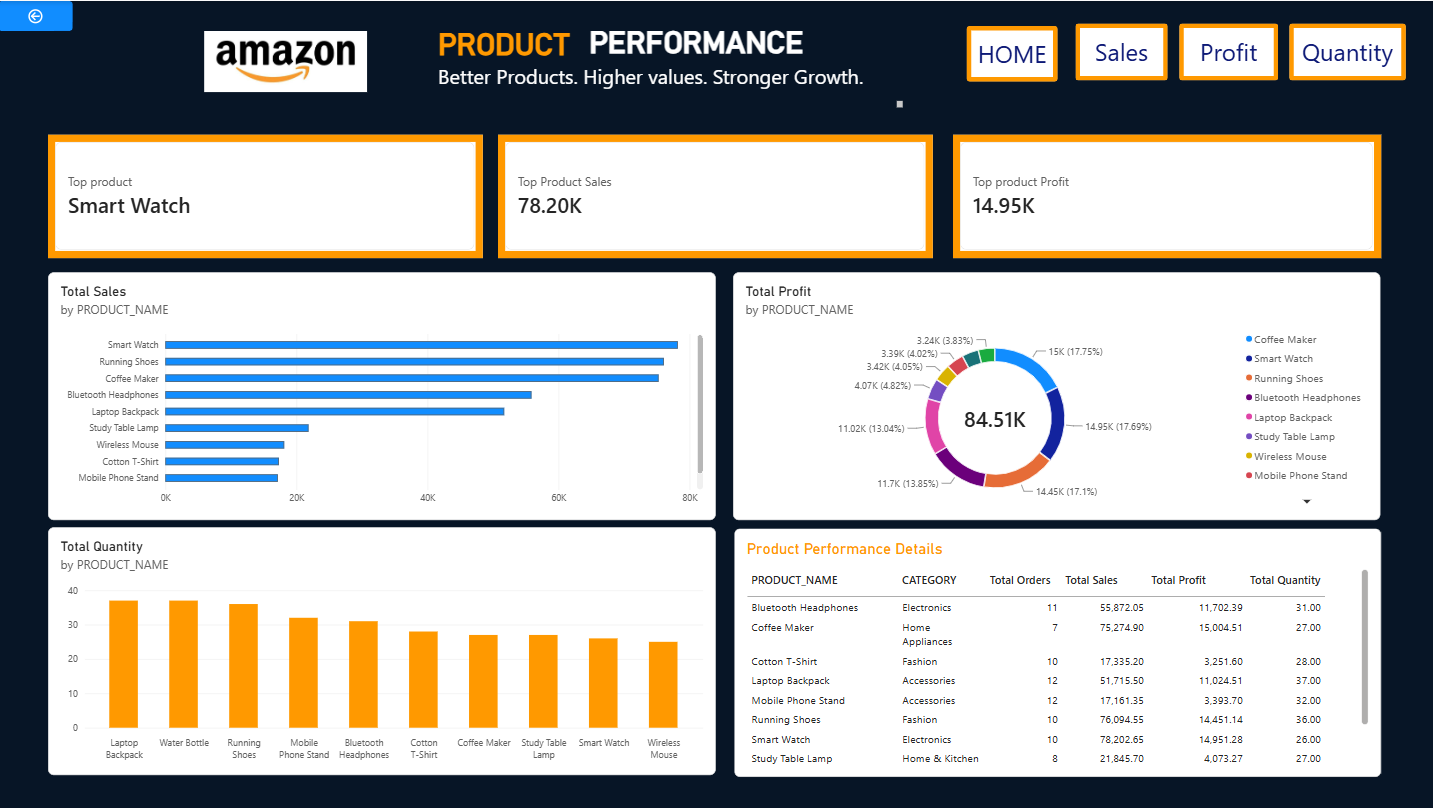

What the dashboard file says about the page in this screenshot:
{"tool":"powerbi","page":{"name":"Product_performance","canvas":[1920,1080],"ordinal":1},"visuals":[{"type":"textbox","title":"PRODUCT ","box":[588.1,32.6,620.7,108.6],"z":0},{"type":"textbox","title":"PERFORMANCE","box":[789.5,31.7,418.9,121],"z":1000},{"type":"cardVisual","fields":{"Data":["FACT_TABLE.Top product"]},"box":[67,179.2,580.9,164.7],"z":2000},{"type":"cardVisual","fields":{"Data":["FACT_TABLE.Top Product Sales"]},"box":[667.8,179.2,580.9,164.7],"z":3000},{"type":"cardVisual","fields":{"Data":["FACT_TABLE.Top product Profit"]},"box":[1275.8,179.2,571.9,164.7],"z":4000},{"type":"clusteredBarChart","fields":{"Y":["FACT_TABLE.Total Sales"],"Category":["PRODUCT.PRODUCT_NAME"]},"box":[67,361.9,892.2,331.2],"z":5000},{"type":"donutChart","fields":{"Y":["FACT_TABLE.Total Profit"],"Category":["PRODUCT.PRODUCT_NAME"]},"box":[982.6,361.9,865,331.2],"z":6000},{"type":"columnChart","fields":{"Category":["PRODUCT.PRODUCT_NAME"],"Y":["FACT_TABLE.Total Quantity"]},"box":[67,703,892,331],"z":7000},{"type":"actionButton","box":[1438.7,30.8,123.1,76],"z":8000},{"type":"actionButton","box":[1578,30.8,132.1,76],"z":9000},{"type":"actionButton","box":[1724.6,30.8,155.6,76],"z":10000},{"type":"tableEx","title":"Product Performance Details","fields":{"Values":["PRODUCT.PRODUCT_NAME","PRODUCT.CATEGORY","FACT_TABLE.Total Orders","FACT_TABLE.Total Sales","FACT_TABLE.Total Profit","FACT_TABLE.Total Quantity"]},"box":[984,704,864,332],"z":11000},{"type":"actionButton","box":[1293.9,32.6,121.2,74.2],"z":12000},{"type":"actionButton","box":[0,0,100,40],"z":13000},{"type":"image","box":[253.4,39.8,260.6,81.4],"z":14000}]}

Visuals, with their boxes in screenshot pixels (x1, y1, x2, y2), scaled from the page's 1920x1080 canvas onto the 1433x808 screenshot:
"PRODUCT " textbox: box(439, 24, 902, 106)
"PERFORMANCE" textbox: box(589, 24, 902, 114)
cardVisual - FACT_TABLE.Top product: box(50, 134, 484, 257)
cardVisual - FACT_TABLE.Top Product Sales: box(498, 134, 932, 257)
cardVisual - FACT_TABLE.Top product Profit: box(952, 134, 1379, 257)
clusteredBarChart - FACT_TABLE.Total Sales x PRODUCT.PRODUCT_NAME: box(50, 271, 716, 519)
donutChart - FACT_TABLE.Total Profit x PRODUCT.PRODUCT_NAME: box(733, 271, 1379, 519)
columnChart - PRODUCT.PRODUCT_NAME x FACT_TABLE.Total Quantity: box(50, 526, 716, 774)
actionButton: box(1074, 23, 1166, 80)
actionButton: box(1178, 23, 1276, 80)
actionButton: box(1287, 23, 1403, 80)
"Product Performance Details" tableEx: box(734, 527, 1379, 775)
actionButton: box(966, 24, 1056, 80)
actionButton: box(0, 0, 75, 30)
image: box(189, 30, 384, 91)
